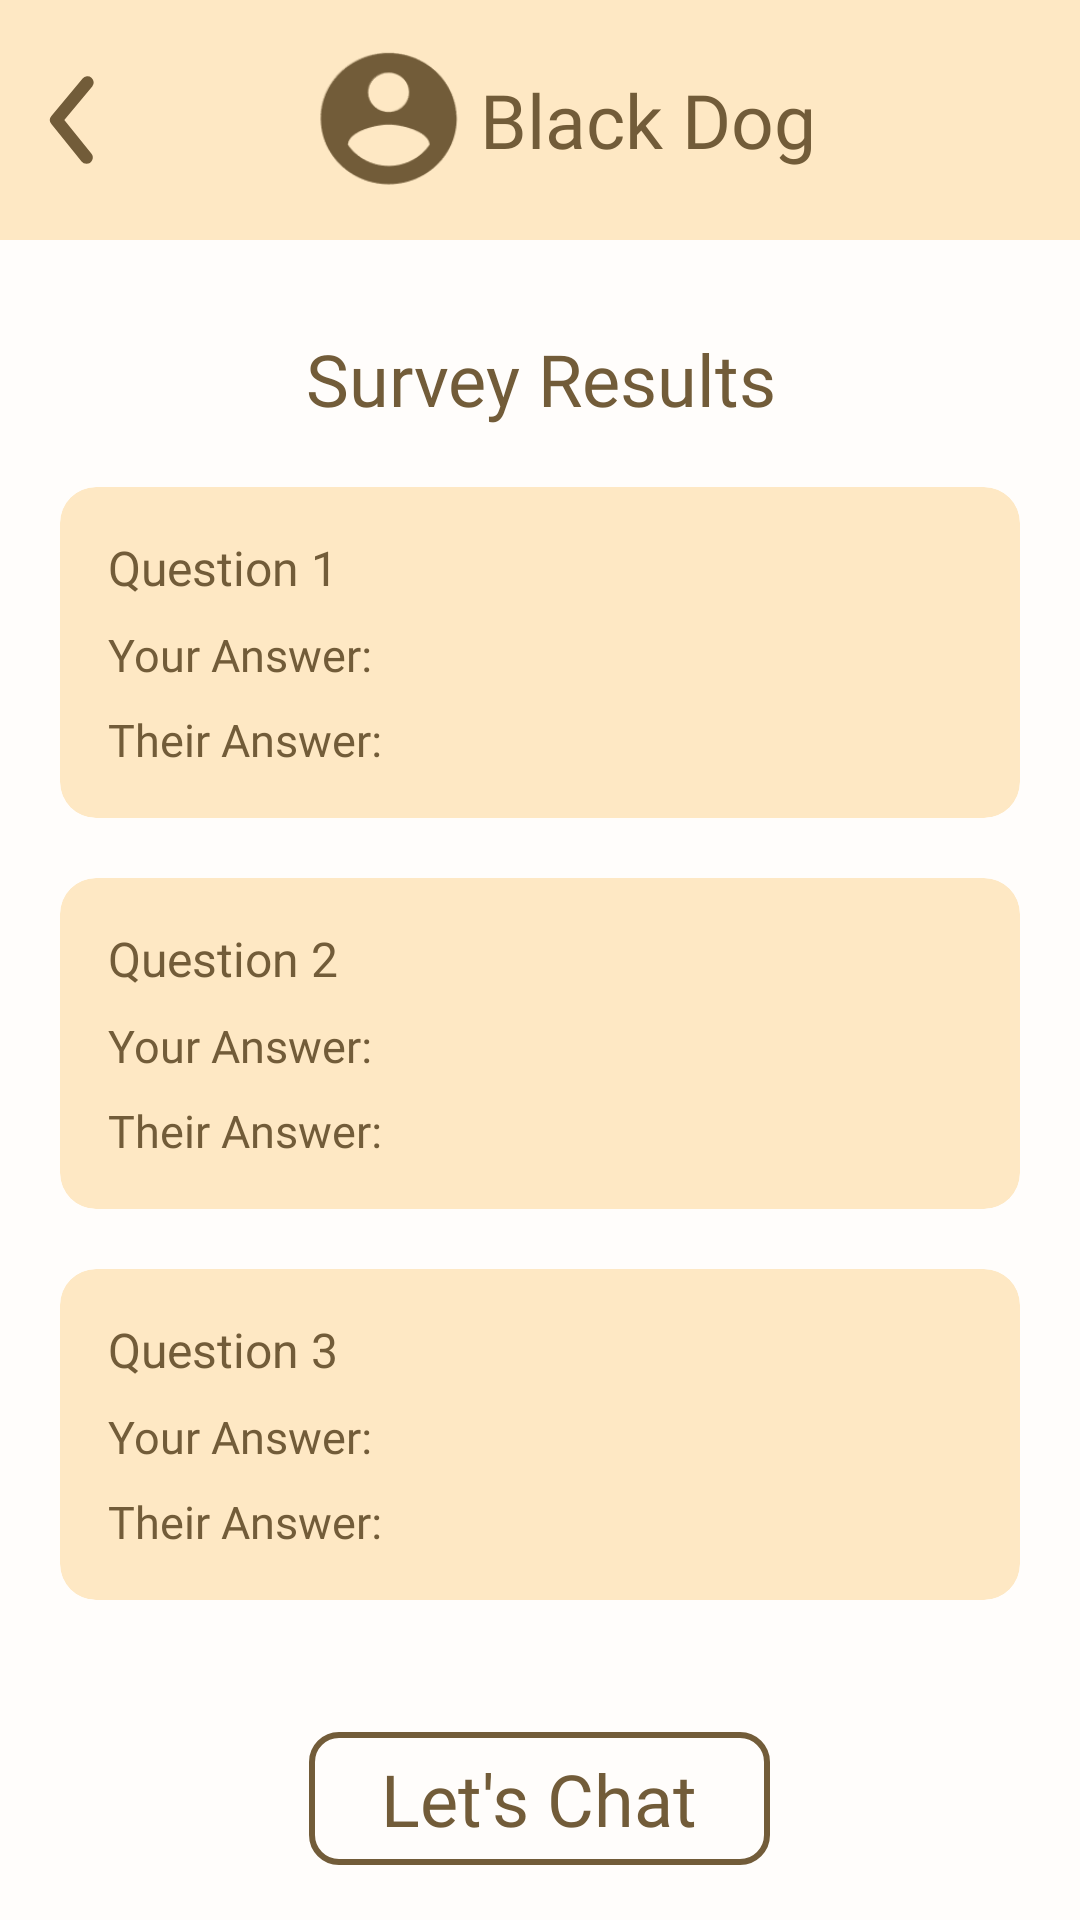

Where icons sit on this 1080w x 1920h app screen, as (x1=x1, y1=y1, x2=x2, y2=y2):
on surface profile photo: (x1=320, y1=53, x2=457, y2=185)
